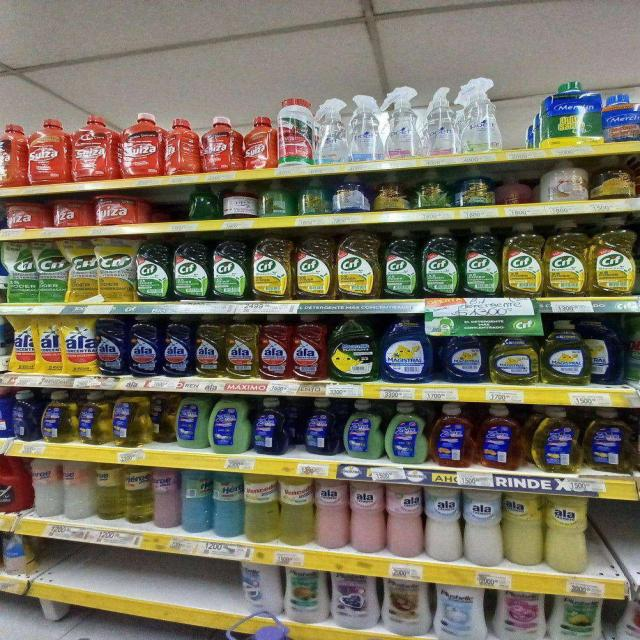ala_conc_amarillo: (225, 315, 257, 379), (194, 314, 224, 378)
ala_conc_azul: (128, 314, 160, 377), (161, 314, 193, 377), (97, 316, 127, 376)
ala_conc_rojo: (291, 314, 327, 381), (258, 313, 290, 381)
ala_crem_amarillo: (545, 493, 590, 574), (504, 490, 543, 567)
ala_crem_blanco: (464, 486, 502, 566), (425, 484, 462, 562)
ala_crem_rosado: (386, 481, 423, 558), (349, 479, 385, 554), (315, 478, 349, 550)
ala_sachet_amarillo: (63, 314, 96, 376), (9, 314, 37, 374), (38, 314, 62, 374)
cif_conc_bot_amarilla: (589, 216, 637, 297), (336, 227, 381, 300), (545, 219, 587, 297), (502, 222, 543, 297), (294, 229, 335, 300), (250, 233, 292, 301)
cif_conc_botella_verde: (461, 225, 500, 298), (420, 226, 459, 298), (382, 228, 419, 299), (211, 236, 249, 301), (172, 236, 209, 301), (135, 237, 170, 302)
cif_conc_sachet_amarillo: (98, 237, 134, 303), (68, 239, 98, 303)
cif_conc_sachet_verde: (6, 241, 37, 303), (37, 240, 67, 304)
heroe: (244, 472, 278, 544), (212, 470, 243, 538), (62, 458, 93, 520), (30, 458, 62, 518), (124, 462, 152, 524), (153, 465, 180, 529)
magistral_con_amarillo: (542, 318, 588, 386), (490, 332, 540, 385)
magistral_con_azul: (381, 313, 434, 383), (440, 334, 488, 384)
vencedor: (280, 475, 313, 546)
zorro: (583, 406, 636, 474), (529, 406, 580, 473), (478, 404, 525, 470), (431, 402, 475, 468), (386, 402, 428, 464), (343, 398, 383, 460), (212, 393, 250, 454), (112, 392, 151, 447), (174, 391, 209, 450), (41, 390, 76, 444), (78, 391, 110, 445), (13, 391, 39, 442)
